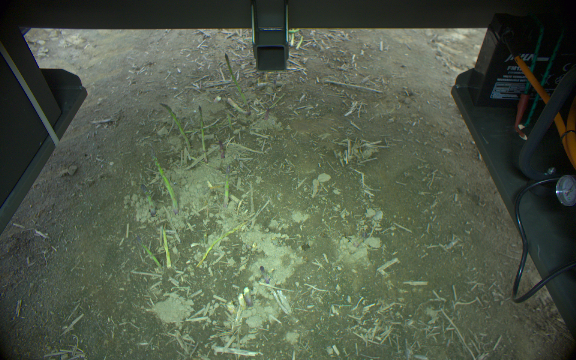aspa: (148, 150, 179, 215), (158, 103, 191, 156), (223, 52, 249, 110), (134, 237, 161, 270), (197, 105, 208, 164), (140, 183, 156, 218), (220, 96, 235, 133), (160, 227, 171, 269), (221, 164, 231, 208), (217, 139, 225, 164)
